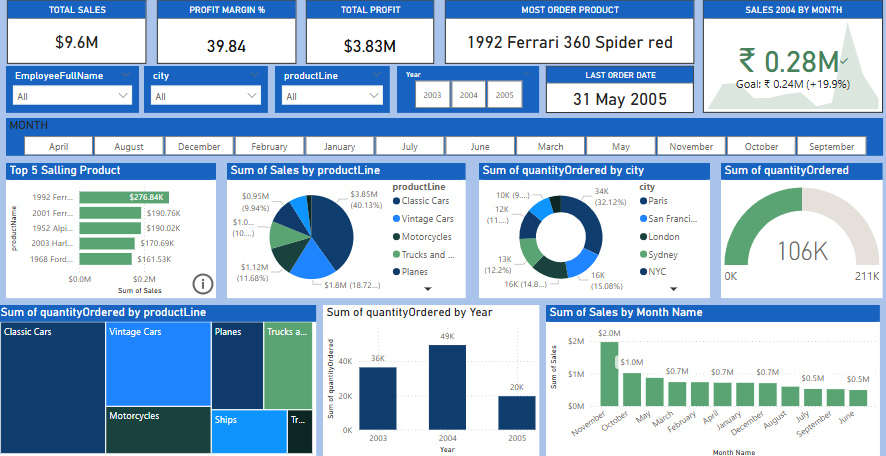

The dashboard page shown, as its layout file describes it:
{"tool":"powerbi","page":{"name":"Page 1","canvas":[1280,720],"ordinal":0},"visuals":[{"type":"cardVisual","title":"TOTAL PROFIT","fields":{"Data":["order details.total_p"]},"box":[441.4,42.9,182.9,91.4],"z":0},{"type":"card","title":"MOST ORDER PRODUCT","fields":{"Values":["orders.MOSTORDEREDCOLUMNS"]},"box":[640,42.9,355.7,91.4],"z":1000},{"type":"barChart","title":"Top 5 Salling Product","fields":{"Category":["products.productName"],"Y":["order details.Sales"]},"box":[12.9,275.7,300,192.9],"z":2000},{"type":"slicer","fields":{"Values":["orders.Year"]},"box":[571.4,137.1,202.9,67.1],"z":4000},{"type":"slicer","fields":{"Values":["offices.city"]},"box":[210,137.1,177.1,67.1],"z":5000},{"type":"card","title":"TOTAL SALES","fields":{"Values":["order details.Sales"]},"box":[14.3,42.9,198.6,91.4],"z":6000},{"type":"kpi","title":"SALES 2004 BY MONTH","fields":{"Goal":["orders.sales_2003"],"TrendLine":["orders.Month Name"],"Indicator":["orders.sales_2004"]},"box":[1008.6,42.9,257.1,161.4],"z":7000},{"type":"pieChart","fields":{"Category":["products.productLine"],"Y":["order details.Sales"]},"box":[328.6,275.7,341.4,192.9],"z":7001},{"type":"treemap","fields":{"Group":["products.productLine"],"Values":["order details.quantityOrdered"]},"box":[0,478.6,455.7,217.1],"z":7002},{"type":"donutChart","fields":{"Category":["offices.city"],"Y":["order details.quantityOrdered"]},"box":[688.6,275.7,330,192.9],"z":7005},{"type":"cardVisual","title":"PROFIT MARGIN %","fields":{"Data":["classic_models_dataset.Total_Profit_%"]},"box":[228.6,42.9,198.6,91.4],"z":7006},{"type":"slicer","fields":{"Values":["employees.EmployeeFullName"]},"box":[12.9,137.1,190,67.1],"z":7007},{"type":"slicer","fields":{"Values":["products.productLine"]},"box":[397.1,137.1,164.3,67.1],"z":7008},{"type":"slicer","title":"MONTH","fields":{"Values":["orders.Month Name"]},"box":[12.9,211.4,1252.9,54.3],"z":7009},{"type":"gauge","fields":{"Y":["order details.quantityOrdered"]},"box":[1034.3,275.7,231.4,192.9],"z":7010},{"type":"lineStackedColumnComboChart","fields":{"Category":["orders.Month Name"],"Y":["order details.Sales"]},"box":[784.3,478.6,477.1,221.4],"z":7011},{"type":"card","title":"LAST ORDER DATE","fields":{"Values":["orders.orderDate"]},"box":[784.3,137.1,211.4,67.1],"z":7012},{"type":"actionButton","box":[0,0,100,40],"z":7013},{"type":"actionButton","box":[274.3,428.6,48.6,40],"z":7014},{"type":"columnChart","fields":{"Category":["orders.Year"],"Y":["order details.quantityOrdered"]},"box":[465.7,478.6,308.6,217.1],"z":7015}]}

Visuals, with their boxes on the page's 1280x720 design canvas (x1, y1, x2, y2). These are canvas units, not pixel positions in the 886x456 screenshot, which may show the page scaled, cropped or inside an application window:
"TOTAL PROFIT" cardVisual: box=[441, 43, 624, 134]
"MOST ORDER PRODUCT" card: box=[640, 43, 996, 134]
"Top 5 Salling Product" barChart: box=[13, 276, 313, 469]
slicer - orders.Year: box=[571, 137, 774, 204]
slicer - offices.city: box=[210, 137, 387, 204]
"TOTAL SALES" card: box=[14, 43, 213, 134]
"SALES 2004 BY MONTH" kpi: box=[1009, 43, 1266, 204]
pieChart - products.productLine x order details.Sales: box=[329, 276, 670, 469]
treemap - products.productLine x order details.quantityOrdered: box=[0, 479, 456, 696]
donutChart - offices.city x order details.quantityOrdered: box=[689, 276, 1019, 469]
"PROFIT MARGIN %" cardVisual: box=[229, 43, 427, 134]
slicer - employees.EmployeeFullName: box=[13, 137, 203, 204]
slicer - products.productLine: box=[397, 137, 561, 204]
"MONTH" slicer: box=[13, 211, 1266, 266]
gauge - order details.quantityOrdered: box=[1034, 276, 1266, 469]
lineStackedColumnComboChart - orders.Month Name x order details.Sales: box=[784, 479, 1261, 700]
"LAST ORDER DATE" card: box=[784, 137, 996, 204]
actionButton: box=[0, 0, 100, 40]
actionButton: box=[274, 429, 323, 469]
columnChart - orders.Year x order details.quantityOrdered: box=[466, 479, 774, 696]
